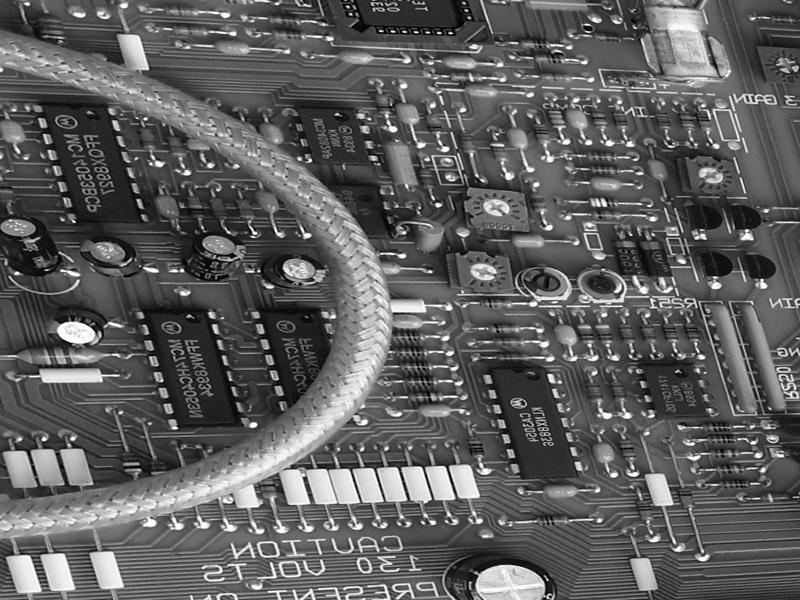Capacitor: (441, 551, 562, 600), (1, 212, 67, 279), (180, 229, 248, 286), (77, 235, 147, 281), (42, 306, 111, 350), (259, 252, 327, 293)
Diode: (634, 232, 674, 283), (610, 235, 645, 280)
Resistor: (17, 344, 106, 366), (34, 8, 68, 47), (601, 374, 632, 408), (116, 443, 145, 479), (204, 190, 233, 225), (575, 193, 631, 211), (613, 432, 644, 464), (481, 317, 528, 338), (590, 319, 620, 351), (677, 316, 707, 348), (232, 193, 261, 226), (453, 126, 480, 160), (526, 184, 552, 219), (485, 135, 514, 166), (542, 103, 571, 134), (146, 454, 172, 488), (529, 115, 554, 150), (606, 103, 635, 133), (181, 191, 209, 222), (394, 373, 442, 391), (612, 316, 639, 348), (585, 102, 612, 133), (581, 376, 607, 408), (166, 21, 212, 39), (531, 512, 574, 531), (655, 317, 681, 348), (632, 495, 658, 526), (159, 3, 206, 20), (674, 480, 698, 513), (484, 335, 533, 351), (403, 388, 449, 405), (489, 349, 535, 366), (421, 110, 448, 138), (755, 488, 797, 506), (369, 88, 393, 119), (464, 431, 488, 462), (381, 344, 434, 358), (582, 208, 631, 223), (514, 35, 557, 52), (691, 108, 717, 136), (573, 321, 599, 349), (709, 459, 747, 478), (413, 163, 437, 193), (582, 162, 627, 178), (636, 319, 660, 349), (580, 148, 624, 164), (257, 474, 281, 503), (676, 105, 699, 135), (392, 358, 438, 373), (266, 27, 309, 43), (529, 50, 569, 67), (704, 444, 744, 461), (711, 475, 751, 492), (134, 126, 159, 153), (164, 133, 188, 161), (650, 106, 674, 134), (384, 329, 431, 343), (474, 296, 517, 311), (698, 418, 737, 434), (261, 12, 305, 26), (444, 69, 485, 84), (585, 30, 623, 44), (766, 11, 800, 26), (702, 433, 740, 446)
